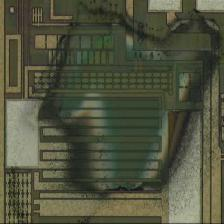PARTICLE: (26, 1, 222, 200)
